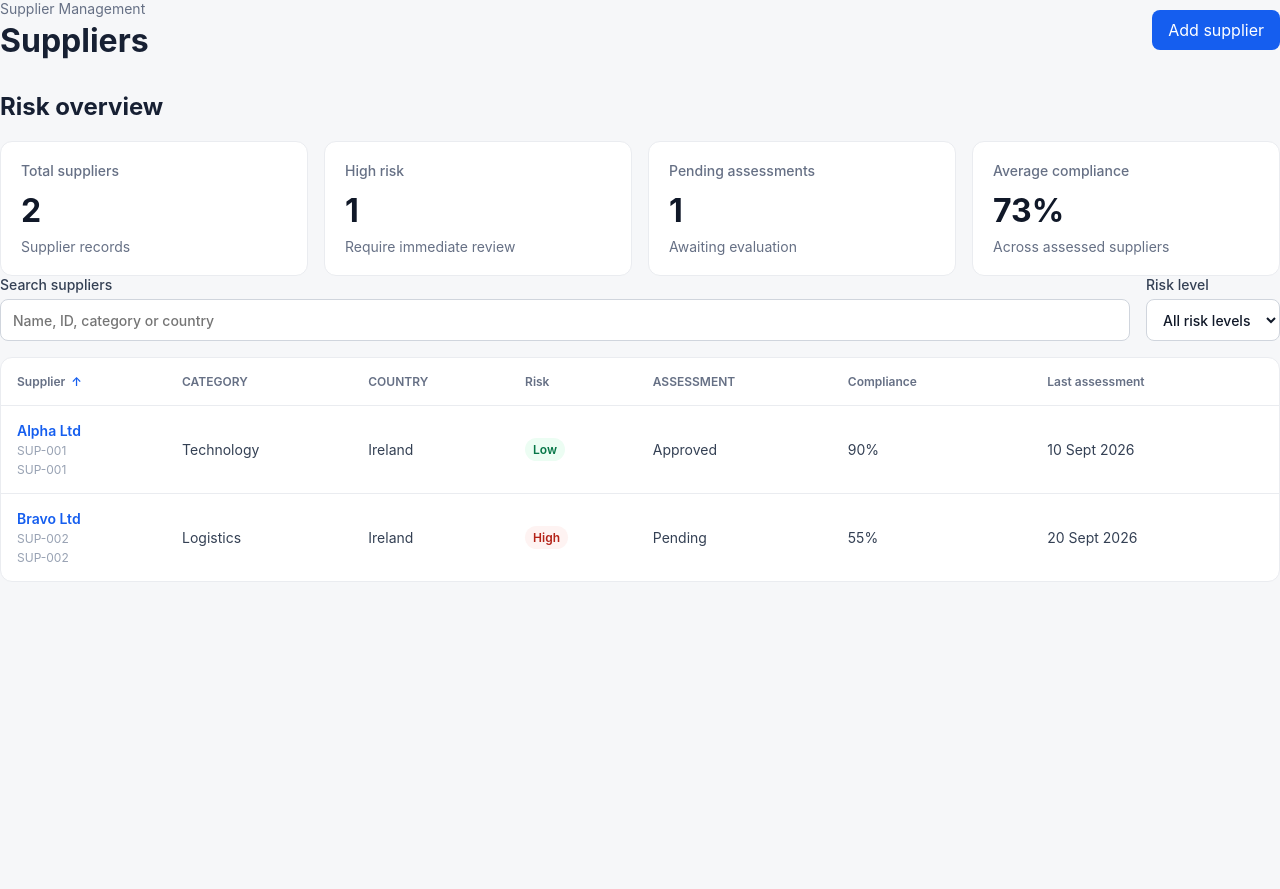
Test case: creates a new supplier
Check: the button "Alpha Ltd" is shown, box x1=17 y1=422 x2=150 y2=439
Click the button "Add supplier".
click(1216, 30)  # box x1=1152 y1=10 x2=1279 y2=50
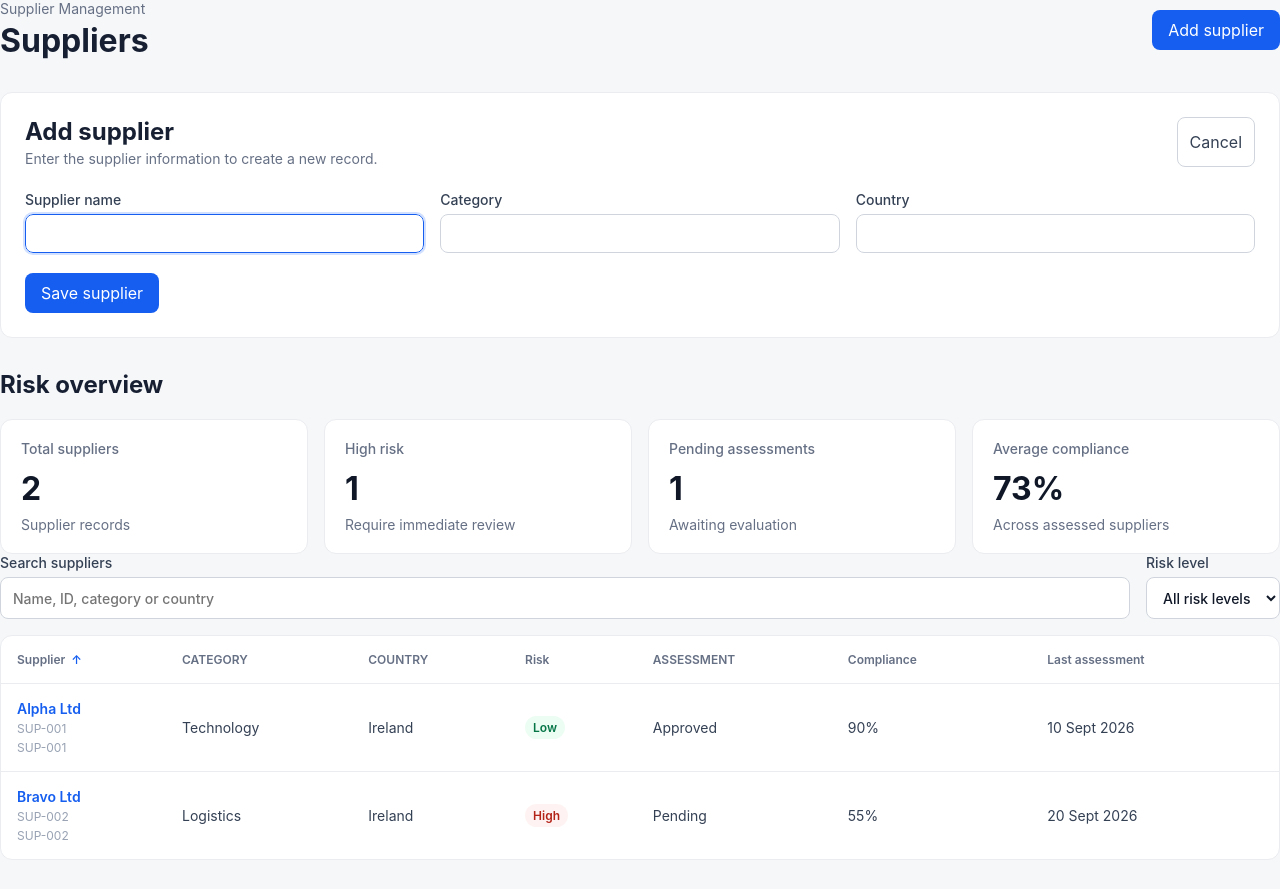
Type "Charlie Ltd" into the field labelled "Supplier name".
click(225, 234); type("Charlie Ltd")  # box x1=25 y1=214 x2=424 y2=253
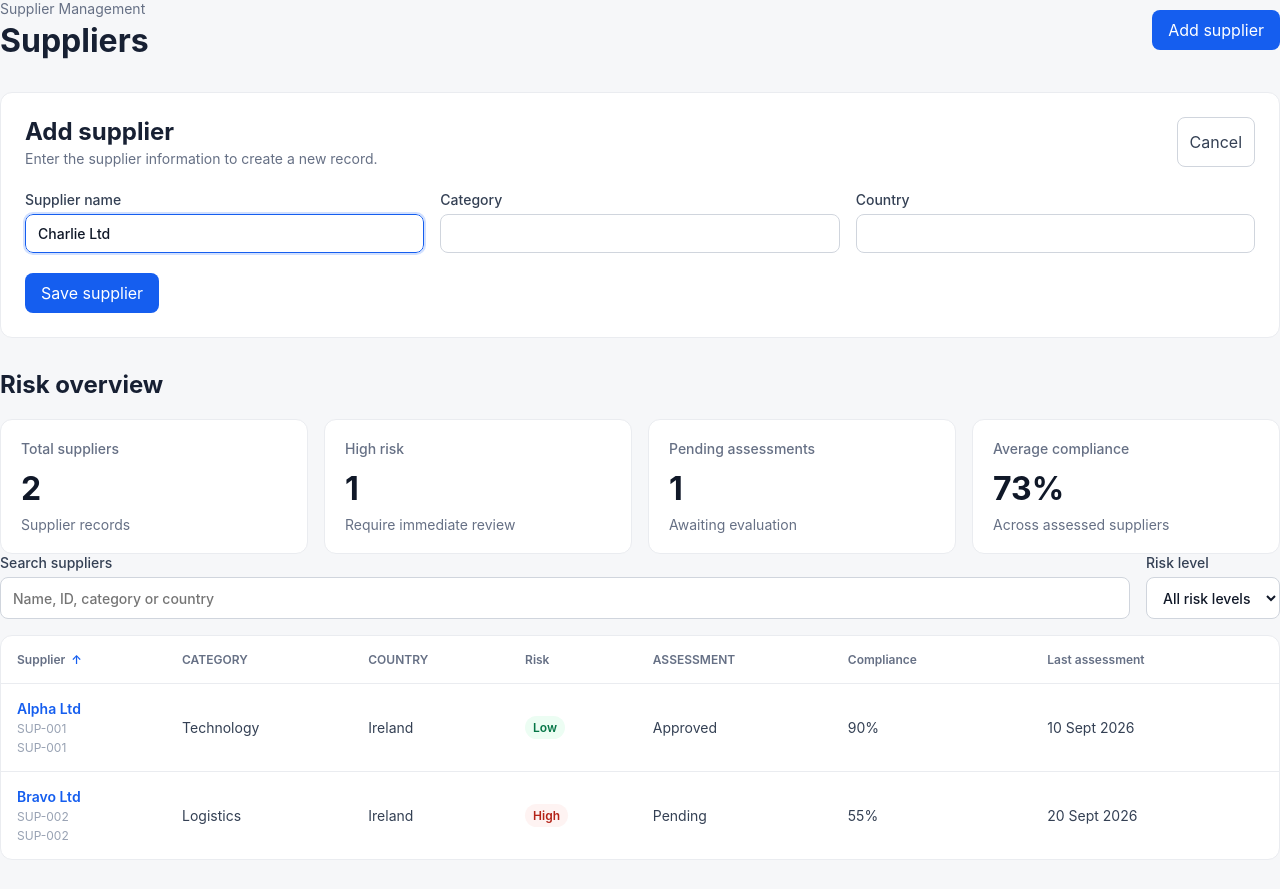
Type "Finance" into the field labelled "Category".
click(640, 234); type("Finance")  # box x1=440 y1=214 x2=840 y2=253
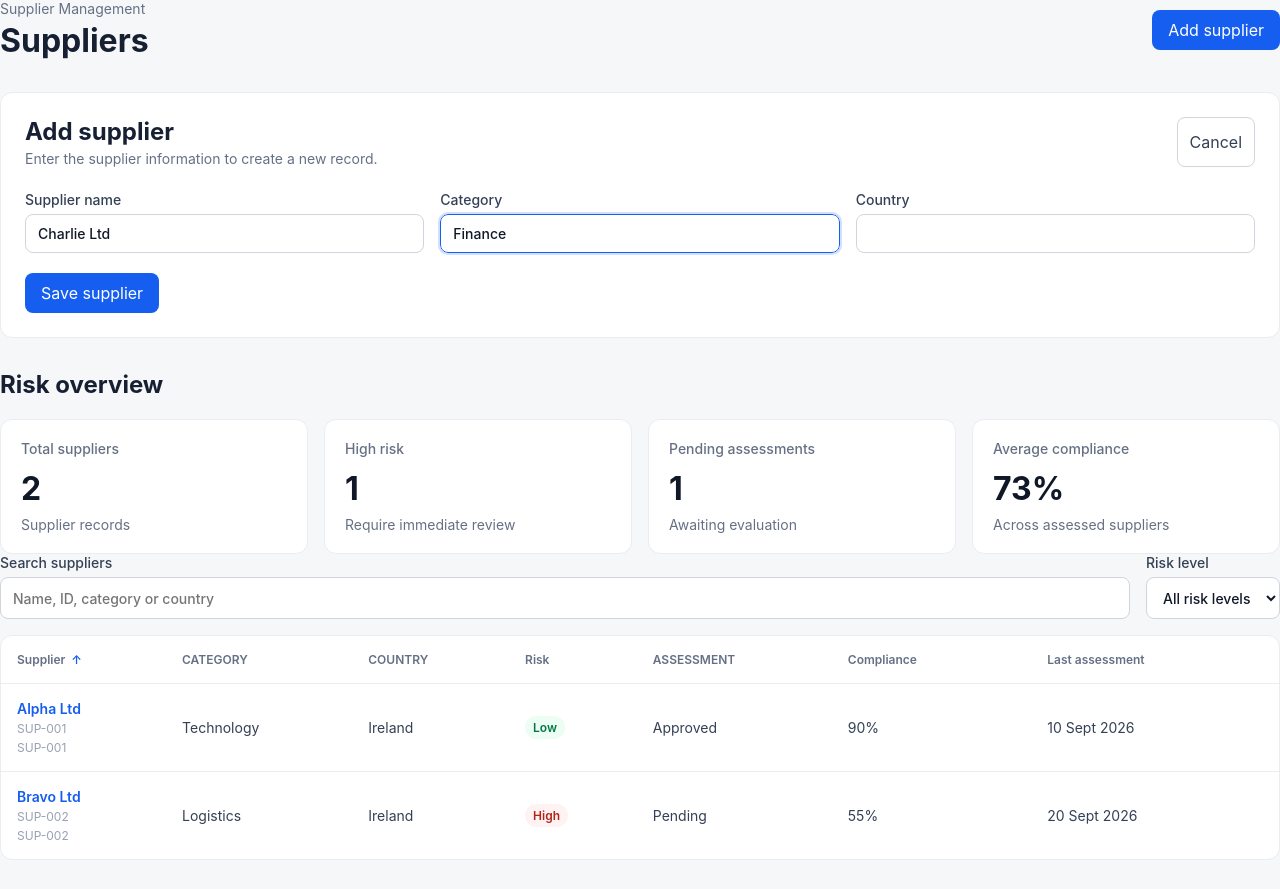
Type "Ireland" into the field labelled "Country".
click(1055, 234); type("Ireland")  # box x1=856 y1=214 x2=1255 y2=253
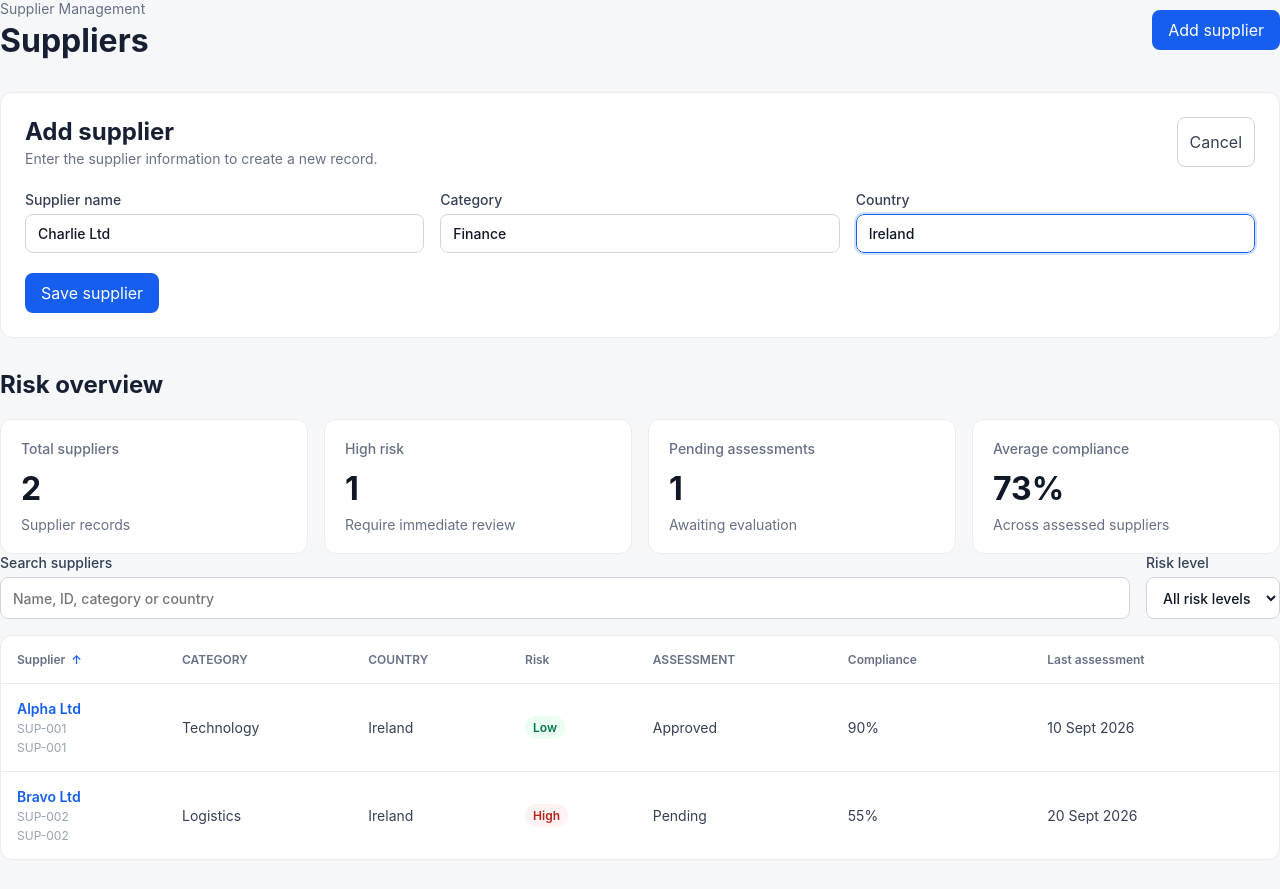
Click the button "Save supplier".
click(92, 293)  # box x1=25 y1=273 x2=159 y2=313
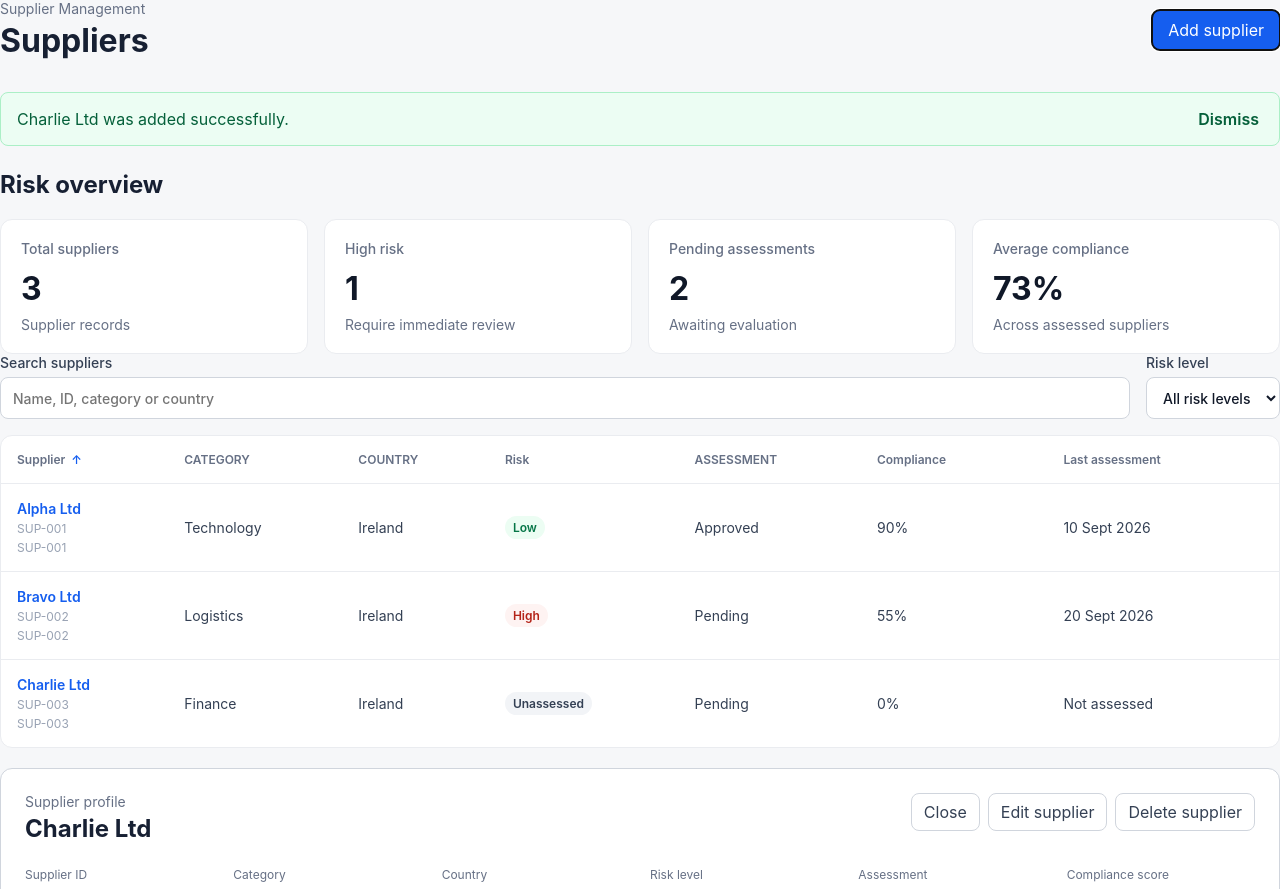
Check: the button "Charlie Ltd" is shown, box x1=17 y1=676 x2=152 y2=693
